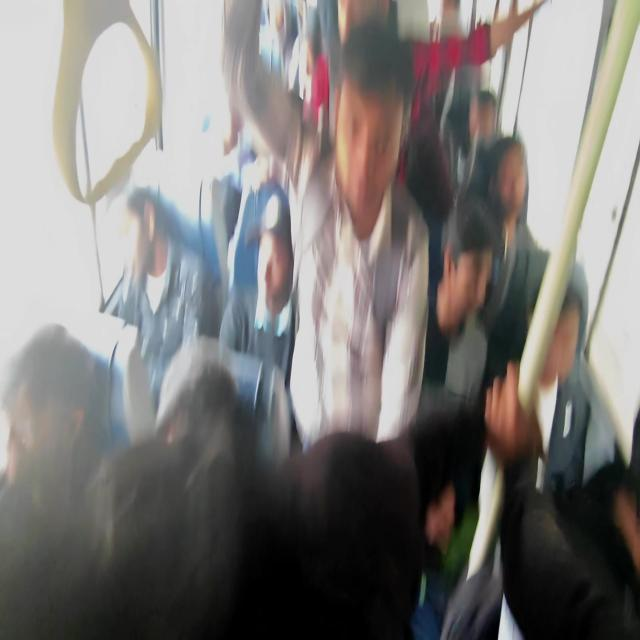person: (131, 443, 348, 640), (326, 43, 414, 228), (559, 420, 633, 573), (165, 362, 267, 462), (3, 327, 78, 439), (254, 226, 306, 337), (108, 190, 174, 271), (541, 276, 586, 376), (444, 222, 496, 307), (496, 141, 541, 222), (207, 85, 242, 182), (464, 88, 506, 146), (337, 4, 384, 43), (269, 7, 295, 53), (253, 127, 274, 179), (438, 6, 462, 37), (300, 45, 314, 84)
